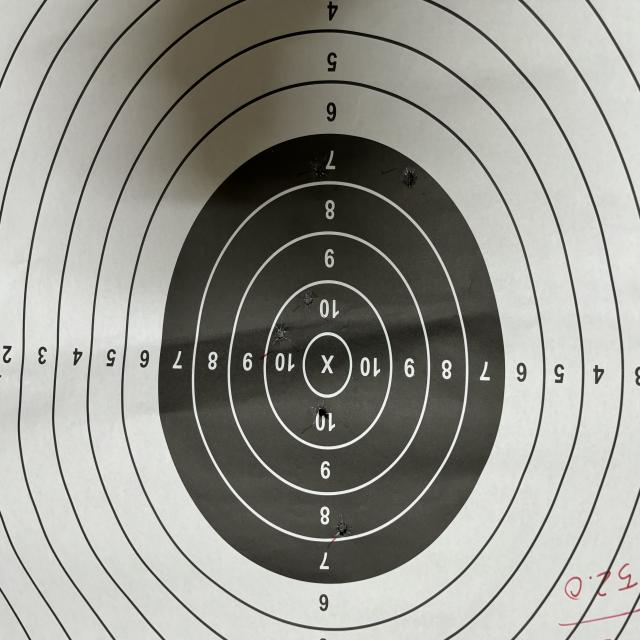bullet: (404, 168, 416, 184), (312, 164, 324, 176), (276, 328, 288, 340), (318, 405, 328, 417), (340, 524, 348, 536), (304, 292, 312, 304)
target: (0, 0, 640, 640)
